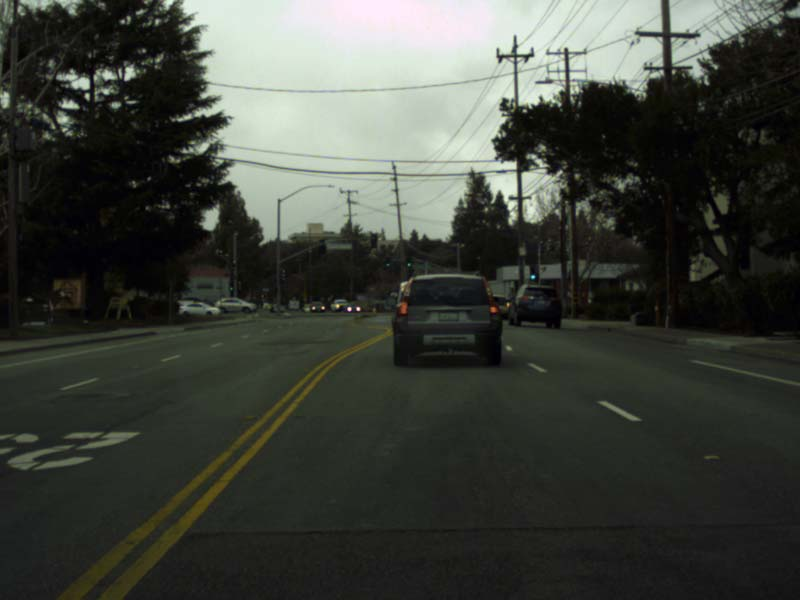Green: (530, 265, 535, 280), (228, 278, 233, 291), (457, 277, 462, 289), (406, 257, 411, 266), (385, 257, 389, 266)
